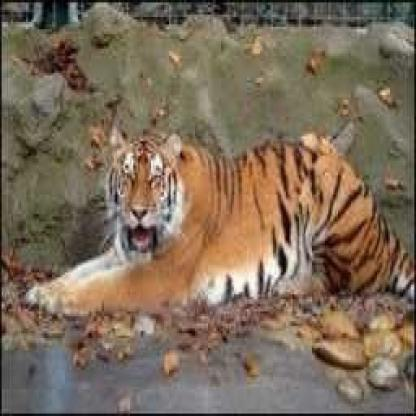Tiger: (18, 120, 415, 322)
